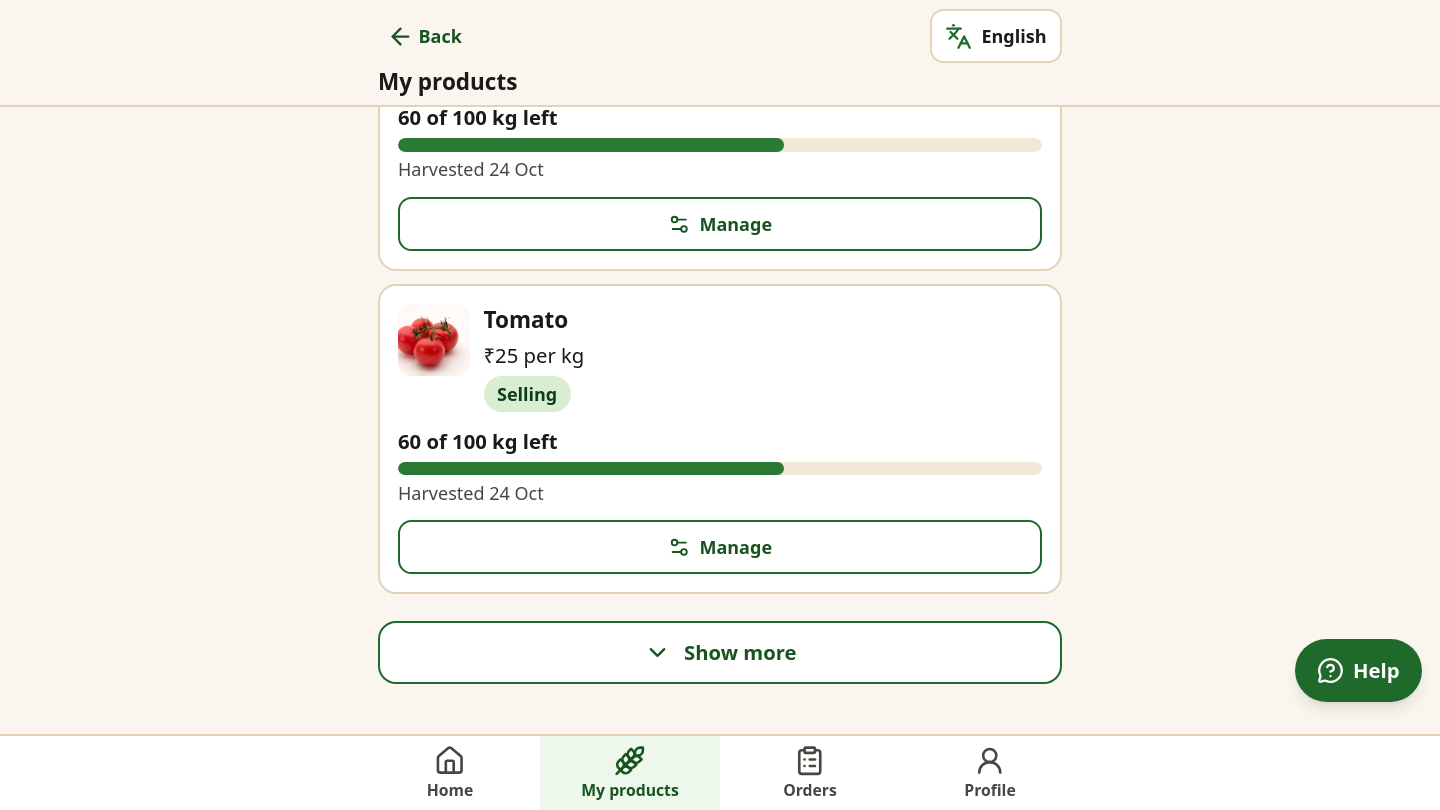
Test: my products › loads more listings page by page
(page scrolled)
Click the button "Show more".
click(720, 653)  # box left=378, top=621, right=1062, bottom=684
(page scrolled)
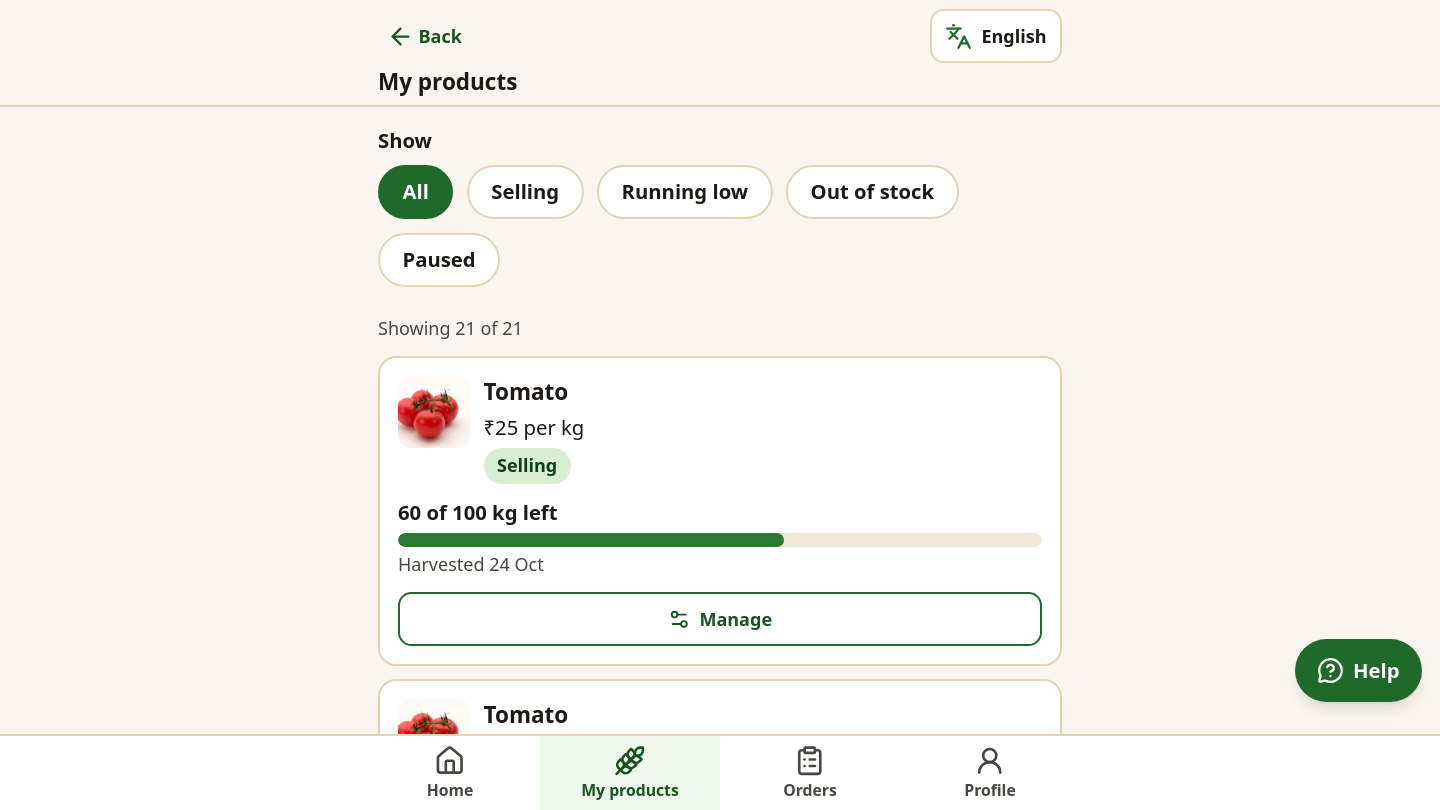
Check: the text "Showing 21 of 21" is shown, box left=378, top=316, right=523, bottom=340
Check: the button "Show more" is gone
